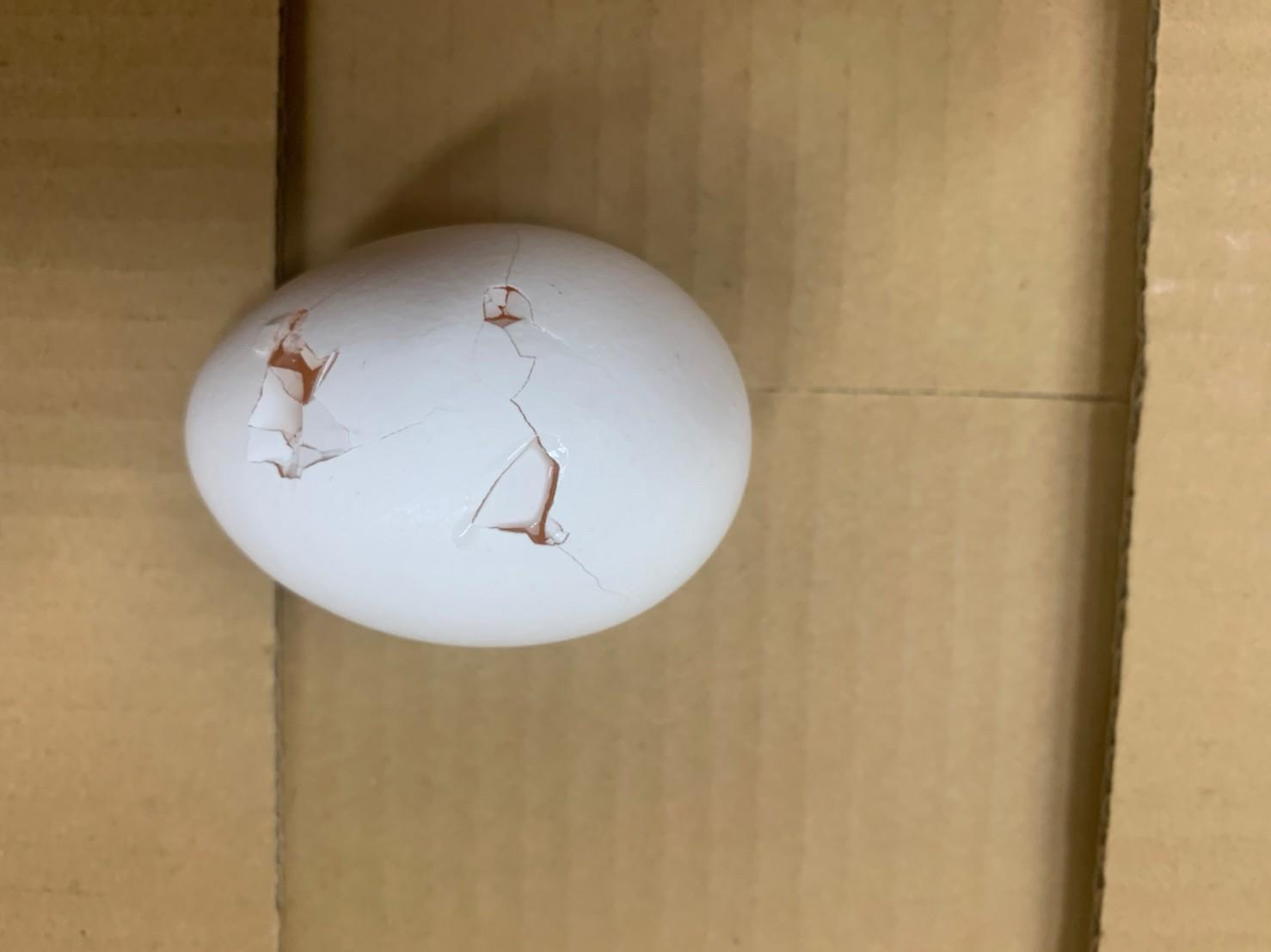egg: (181, 214, 756, 656)
